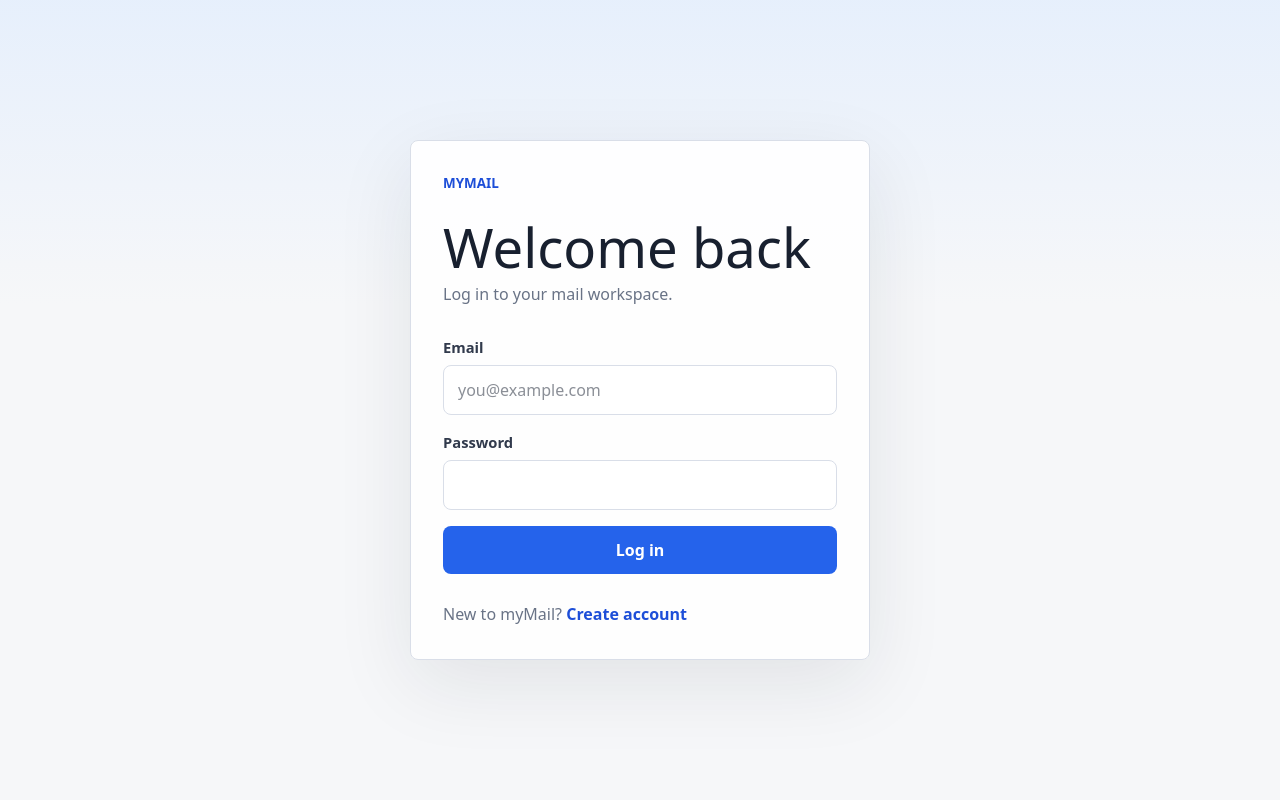
Test: recovers submission state and announces invalid credentials
Type "review@example.com" into the field labelled "Email" at (640, 390), box [443,365,837,415]
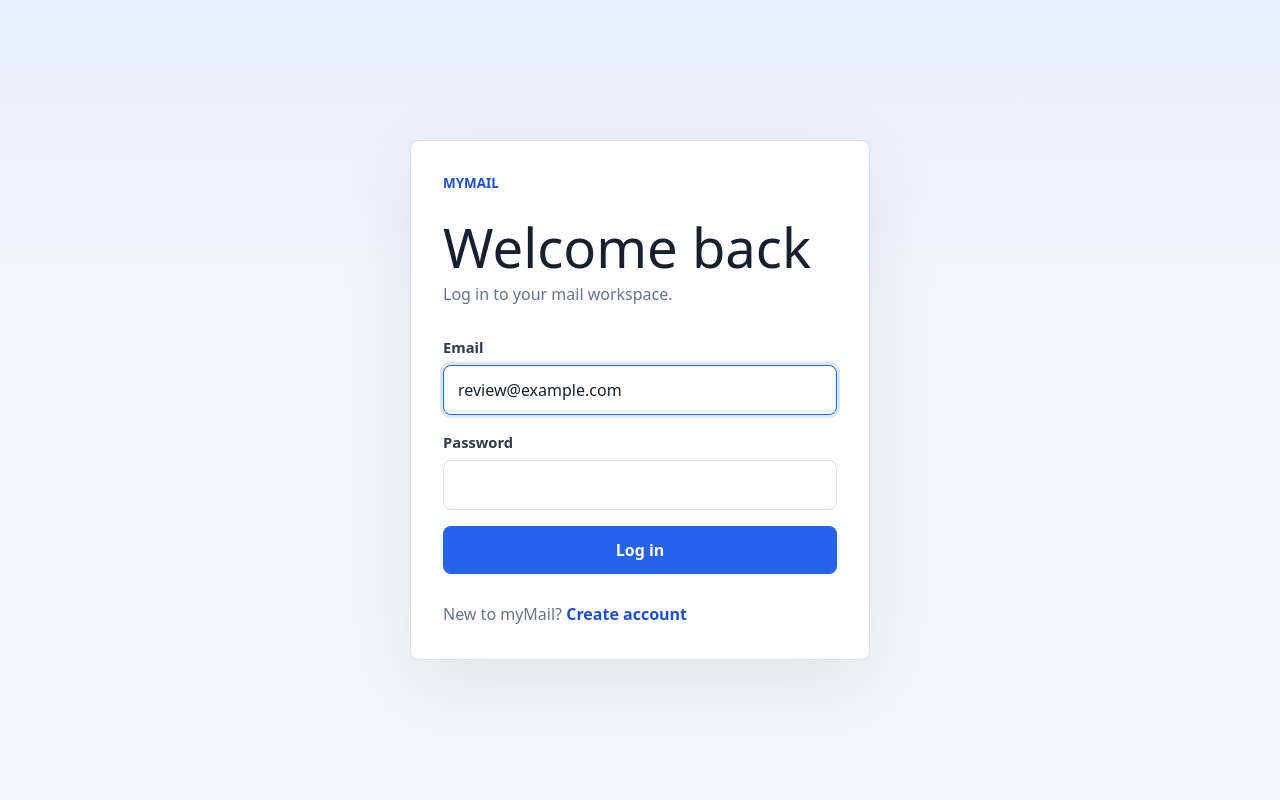
Type "wrong-password" into the password field labelled "Password" at (640, 485), box [443,460,837,510]
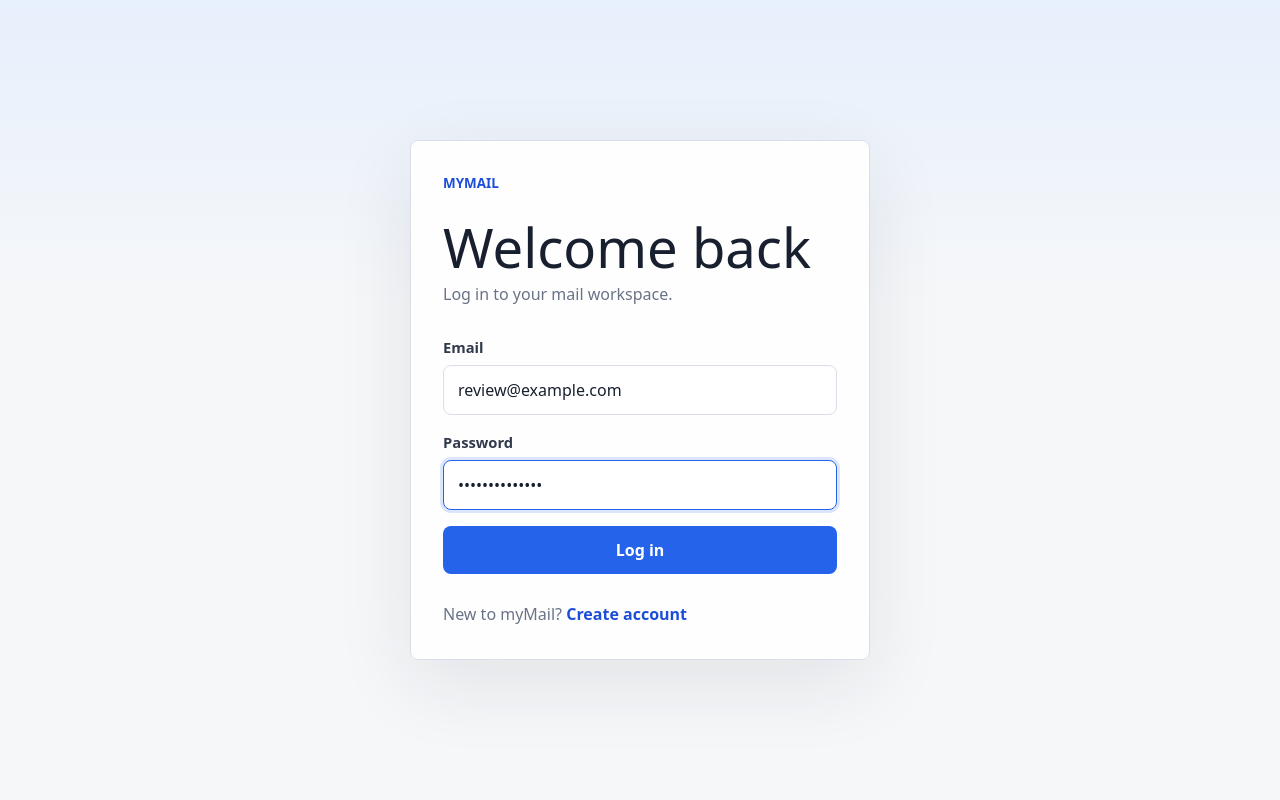
Click the button "Log in" at (640, 550), box [443,526,837,574]
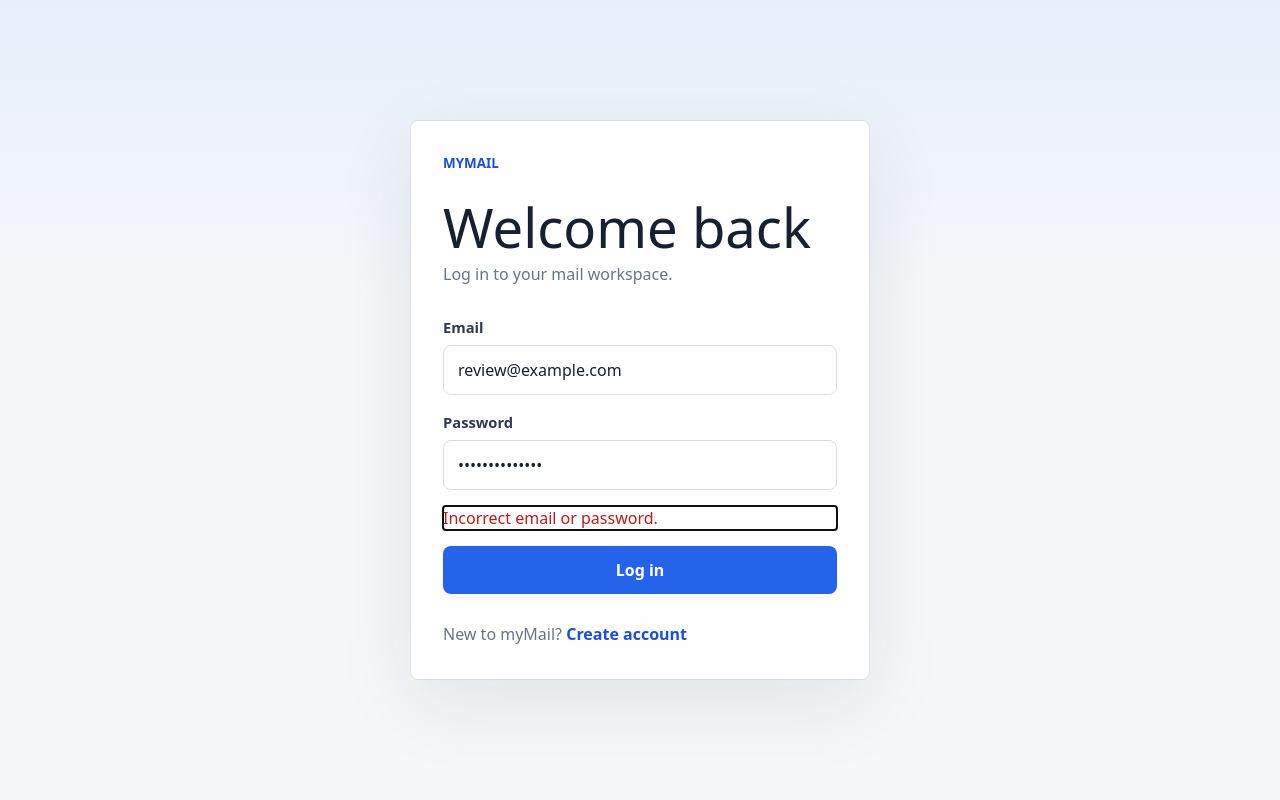
Expected: the button "Log in" is enabled, [443,546,837,594]
Now the message reads "Incorrect email or password.", box [443,507,658,529]
